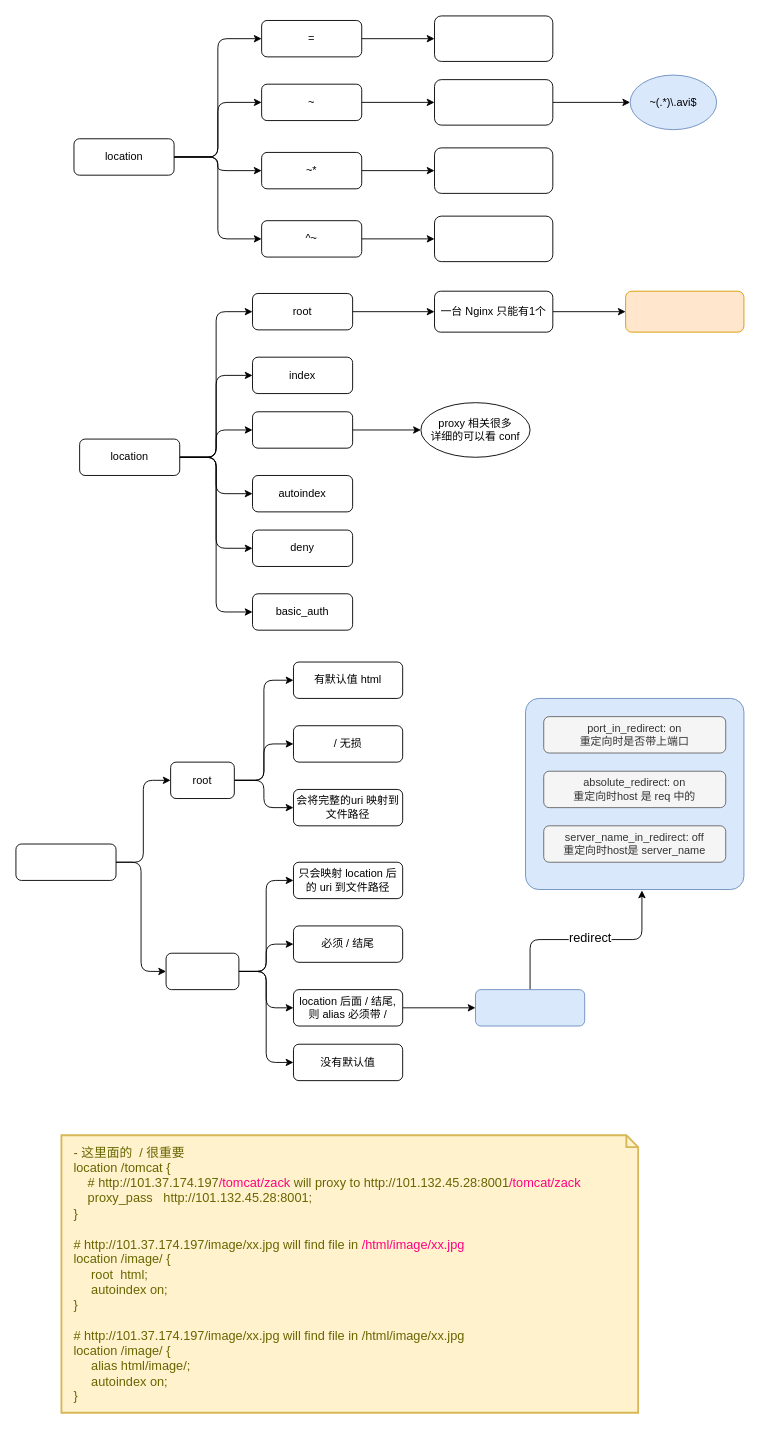
This 760x1430 diagram has some shape labels left out. Here are the shapes that lost their labels. From the top down, the centre of each, then its label:
point 493,38: uri 完全匹配
point 493,102: uri 正则表达式匹配: 区分大小写
point 493,170: uri reg 不区分大小写
point 493,238: 不包含 reg 前的 uri, 找到最高匹配度就执行
point 684,311: 想写多个: alias
point 302,429: proxy_pass
point 65,861: 虚拟目录
point 202,971: alias
point 530,1007: 访问的是目录, 但是结尾没有 /, 则会 301
